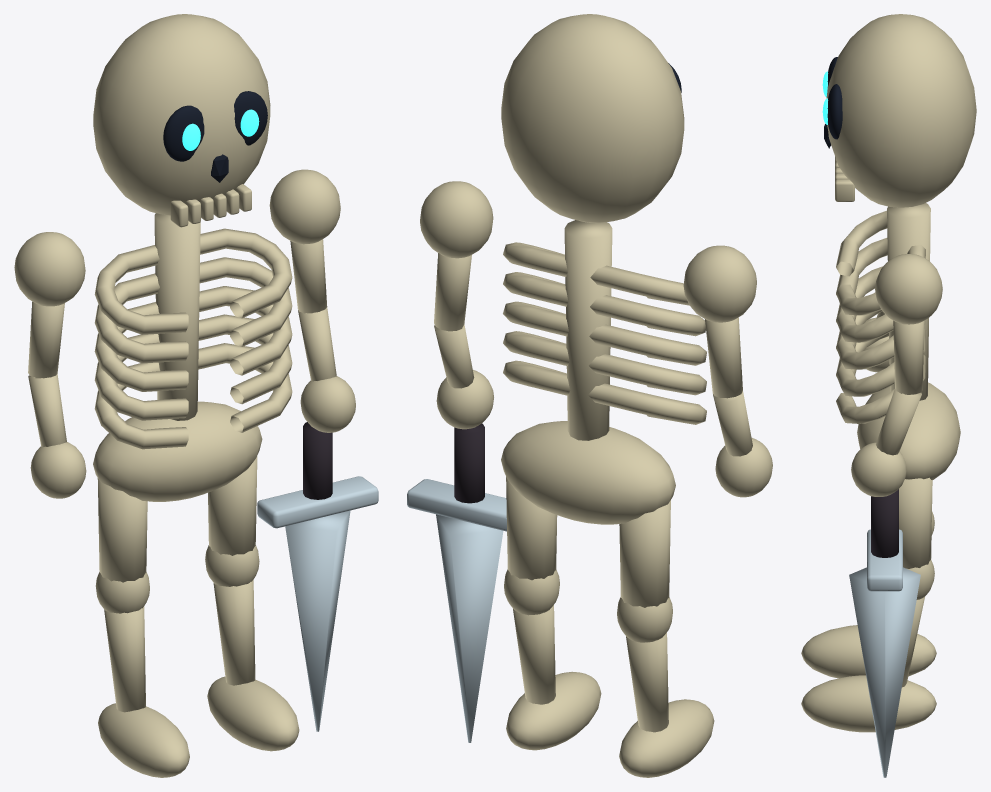
Rendered from enemy-0-refined-v15.fbx.
The picture shows the model from 3 angles, left to right: view 1: azimuth 30°, elevation 25°; view 2: azimuth 150°, elevation 25°; view 3: azimuth 270°, elevation 25°; orthographic projection. The views are drawn at different scales.
Visible parts, largest first — view 1: Skull.001, Pelvis, SwordBlade, Spine, Foot.003, Foot.002, Thigh, Shoulder, Shoulder.001, Thigh.001, Shin, Shin.001 (+22 smaller); view 2: Skull.001, Pelvis, Spine, SwordBlade, Foot.002, Foot.003, Thigh, Shoulder, Shoulder.001, Thigh.001, Shin, Shin.001 (+20 smaller); view 3: Skull.001, SwordBlade, Pelvis, Foot.003, Shoulder.001, Foot.002, Thigh.001, Spine, Hand.003, UpperArm.001, SwordHandle, Forearm.003 (+13 smaller).
Part boxes in pixels (left/top/right/bottom): Skull.001: left=93, top=14, right=270, bottom=215; Pelvis: left=93, top=401, right=262, bottom=501; SwordBlade: left=285, top=510, right=350, bottom=731; Spine: left=154, top=213, right=200, bottom=420; Foot.003: left=207, top=676, right=299, bottom=751; Foot.002: left=98, top=703, right=189, bottom=777; Thigh: left=97, top=478, right=147, bottom=582; Shoulder: left=14, top=232, right=85, bottom=306; Shoulder.001: left=269, top=169, right=340, bottom=244; Thigh.001: left=208, top=456, right=257, bottom=555; Shin: left=104, top=606, right=145, bottom=712; Shin.001: left=213, top=580, right=255, bottom=685; Skull.001: left=501, top=14, right=684, bottom=223; Pelvis: left=501, top=421, right=675, bottom=524; Spine: left=564, top=220, right=612, bottom=440; SwordBlade: left=436, top=514, right=503, bottom=742; Foot.002: left=619, top=699, right=714, bottom=777; Foot.003: left=506, top=671, right=601, bottom=750; Thigh: left=619, top=500, right=670, bottom=607; Shoulder: left=683, top=245, right=756, bottom=322; Shoulder.001: left=420, top=181, right=493, bottom=258; Thigh.001: left=506, top=477, right=557, bottom=580; Shin: left=626, top=632, right=668, bottom=732; Shin.001: left=513, top=605, right=555, bottom=704; Skull.001: left=826, top=14, right=976, bottom=207; SwordBlade: left=849, top=567, right=920, bottom=777; Pelvis: left=857, top=382, right=960, bottom=479; Foot.003: left=801, top=675, right=936, bottom=732; Shoulder.001: left=875, top=254, right=942, bottom=324; Foot.002: left=801, top=625, right=936, bottom=678; Thigh.001: left=899, top=477, right=932, bottom=568; Spine: left=887, top=203, right=930, bottom=400; Hand.003: left=851, top=442, right=906, bottom=496; UpperArm.001: left=893, top=320, right=924, bottom=394; SwordHandle: left=871, top=489, right=898, bottom=557; Forearm.003: left=876, top=389, right=921, bottom=455.
Size of the model in its own units: 93 by 193 by 44.
